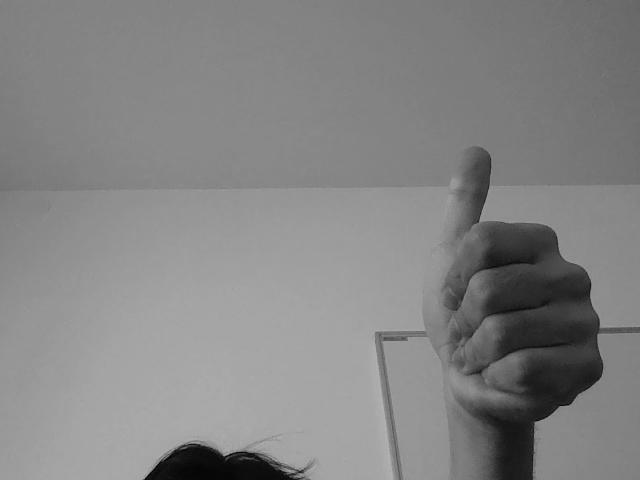good: (419, 136, 610, 435)
